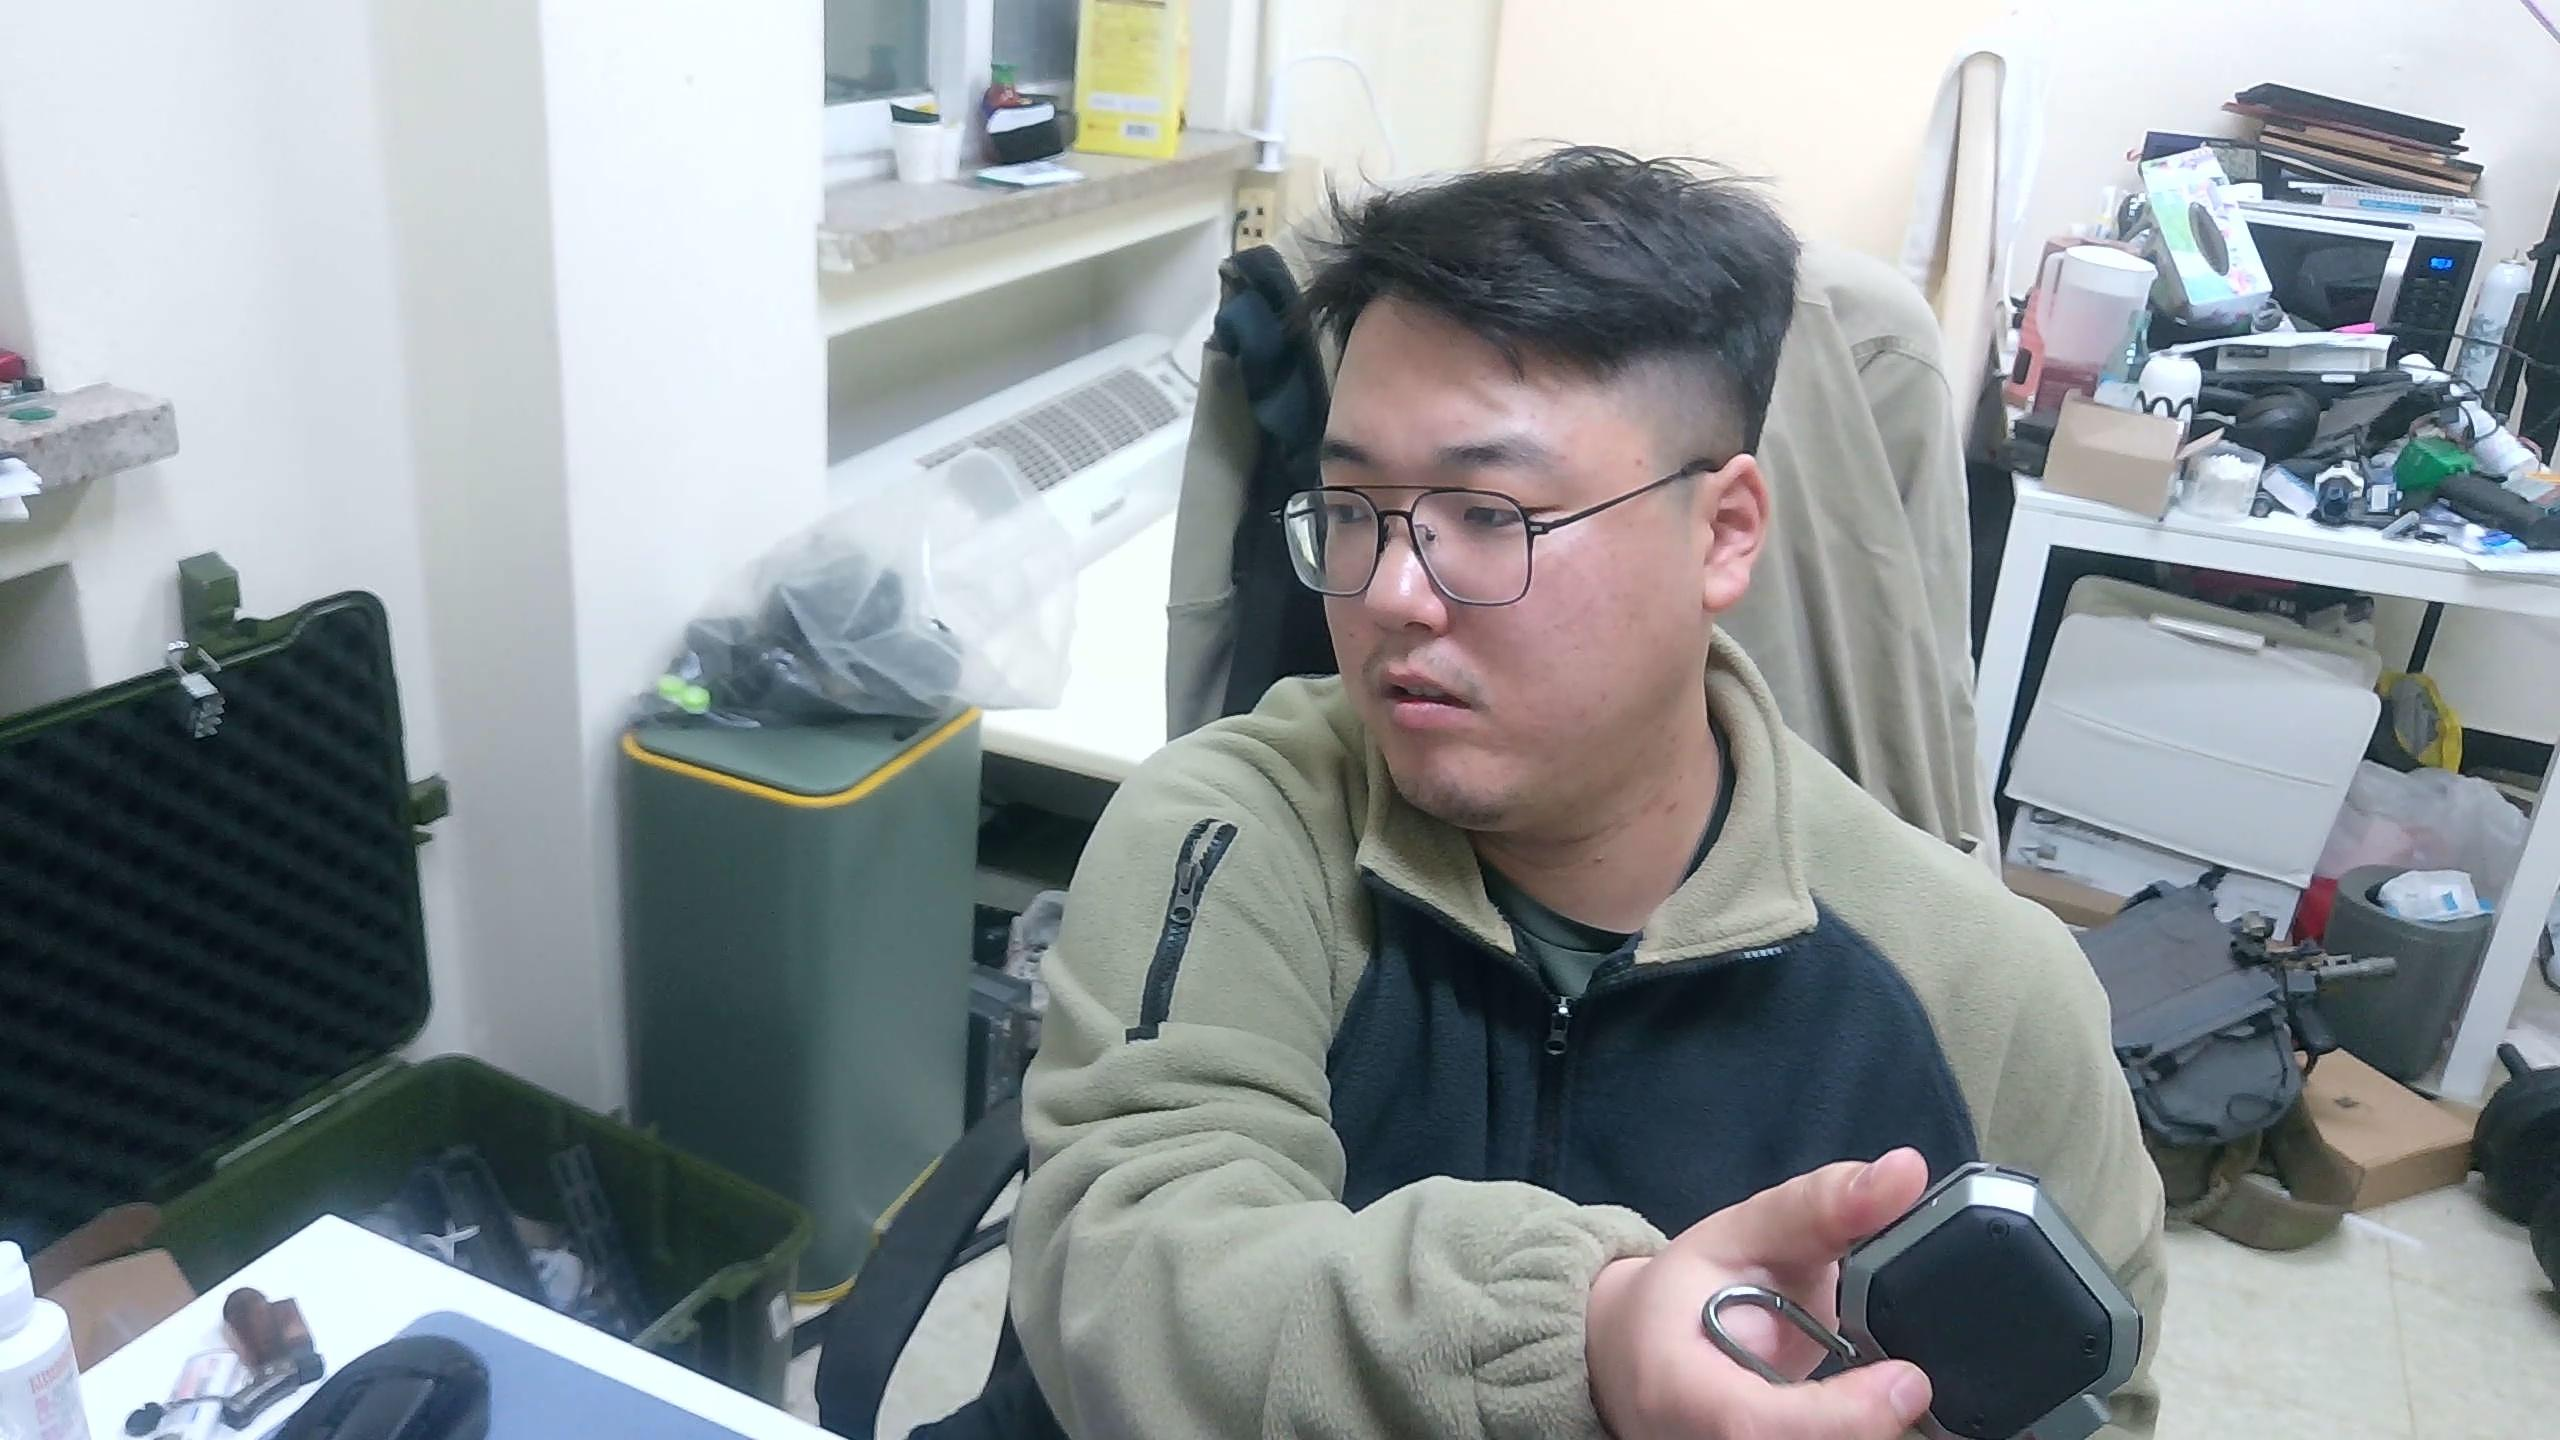blue_pliers: (1702, 1159, 2149, 1438)
